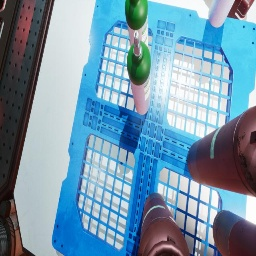0: (127, 30, 151, 115), (125, 0, 148, 48), (208, 0, 235, 28)
FirstAidBox ,: (212, 0, 255, 20)
NitrogenTank ,: (187, 106, 256, 198), (138, 192, 190, 256), (212, 210, 256, 256)
